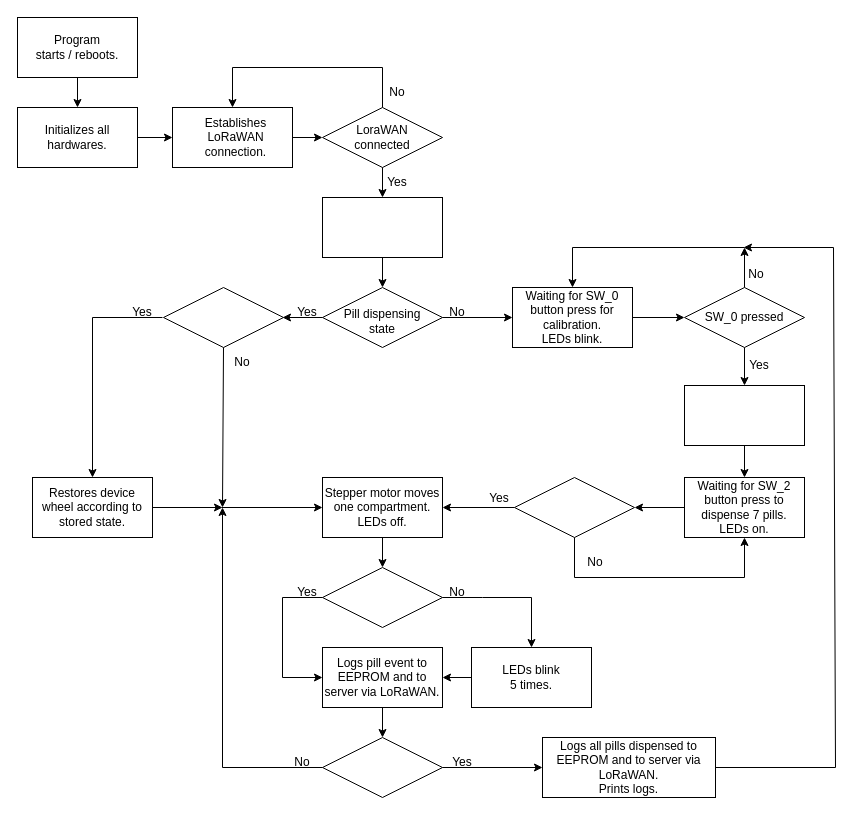
The diagram is 861 pixels wide and 815 high, and some of its shapes have lost their labels. Here are the shapes that lost their labels. From the top down, the centre of each, then its label:
At [382,227]: "Checks for valid stored states. Prints logs.".
At [223,317]: "Reset while motor turning".
At [744,415]: "Calibration and alignment of dispenser wheel.".
At [574,507]: "SW_2 pressed".
At [382,597]: "Pill dispensed".
At [382,767]: "Last compartment".
